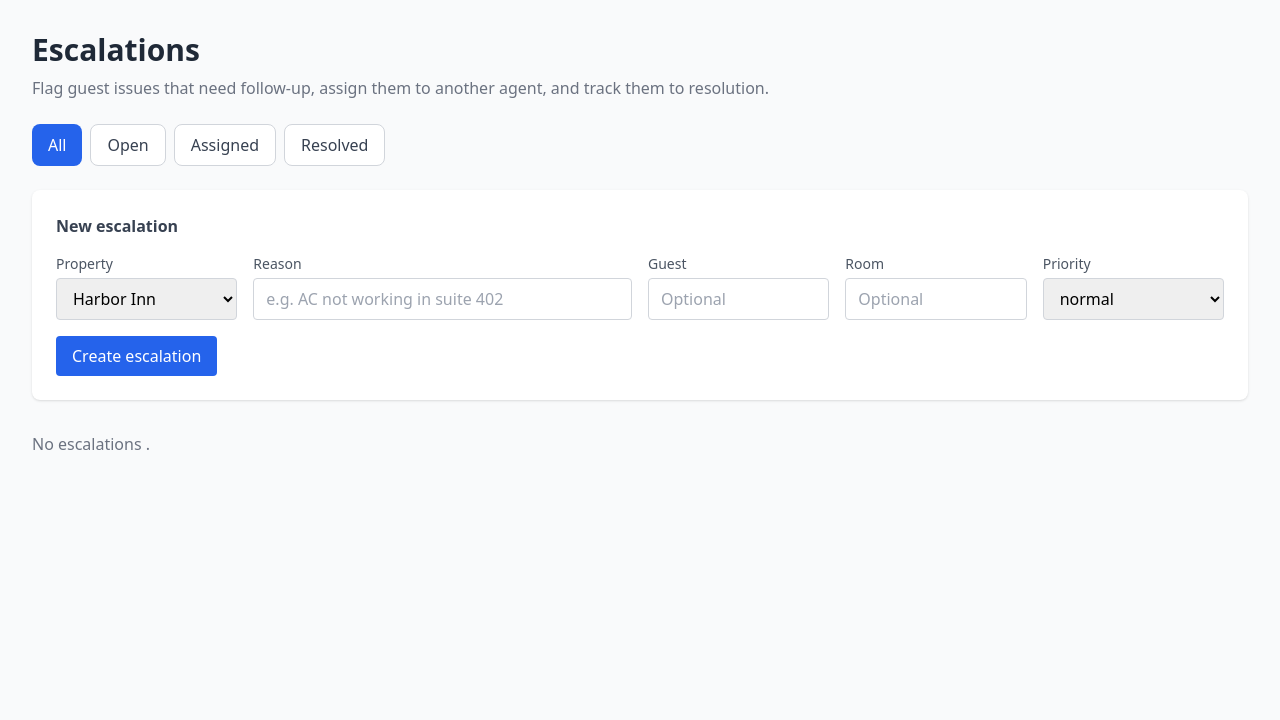
Test case: EscalationsPage list responses › ignores a list response for a filter that is no longer selected
What coordinates should you click on to do the following:
click the button "open"
I would click on:
 (128, 145)
Its box is [90,124,166,166].
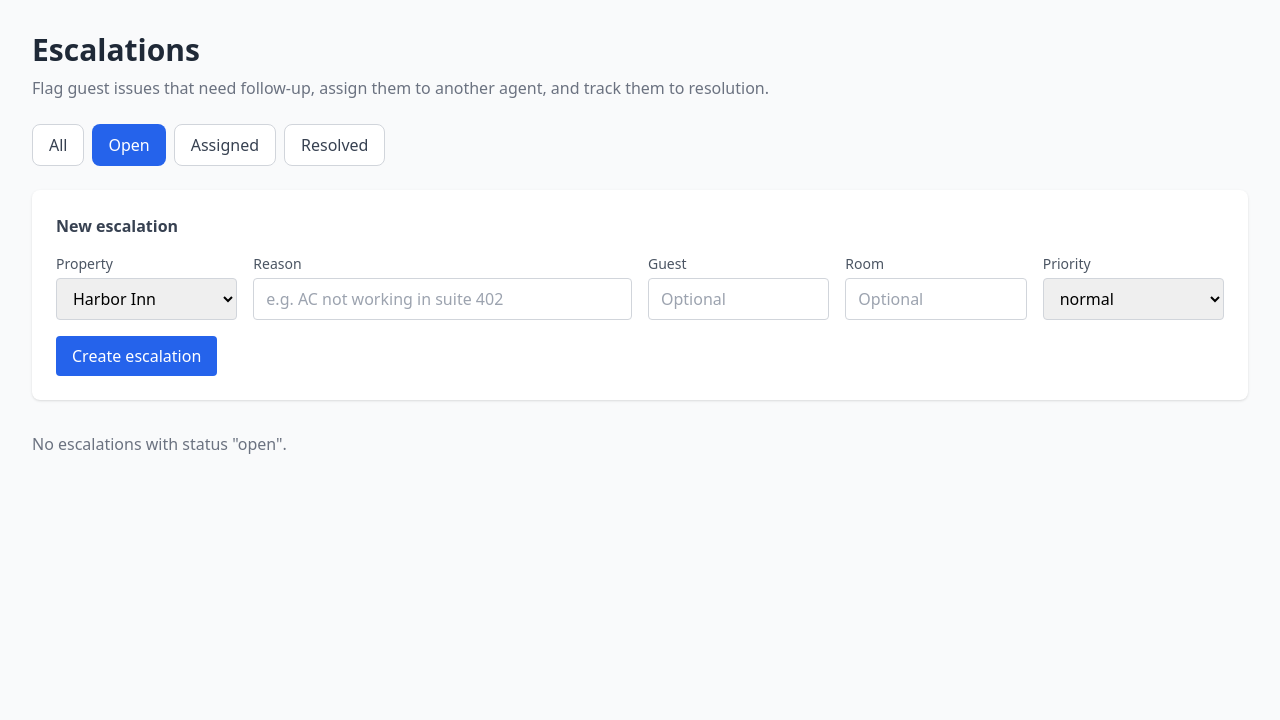
What coordinates should you click on to do the following:
click the button "resolved"
I would click on:
 (335, 145)
Its box is [284,124,386,166].
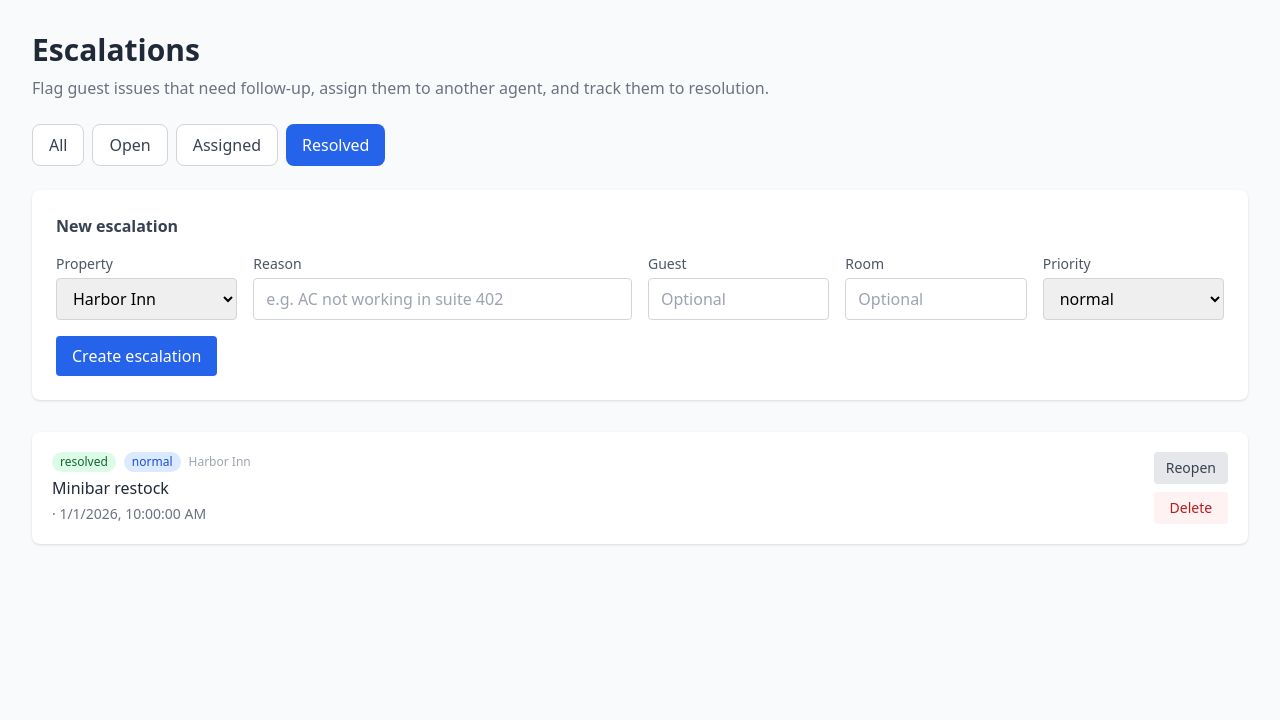
Expected: the text "Minibar restock" is shown, [52,477,169,499]
